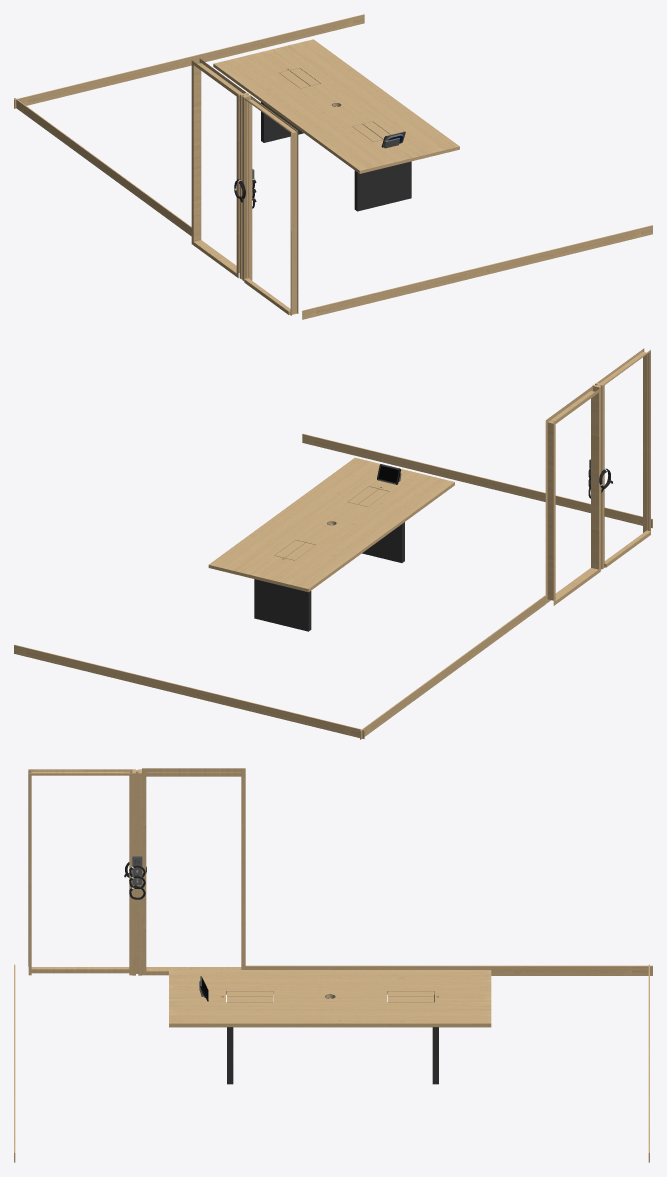
Rendered from Room_WoodElements.FBX.
3 views of the same model, one above another, from view 1: azimuth 30°, elevation 25°; view 2: azimuth 150°, elevation 25°; view 3: azimuth 270°, elevation 25° (orthographic). The views are drawn at different scales.
Parts seen in each view (by area): view 1: Table, WoodElements, Door001; view 2: Table, WoodElements, Door001; view 3: Table, Door001, WoodElements.
Part boxes in pixels (x1,y1,x2,y2): Table: [213, 39, 459, 211]; WoodElements: [14, 14, 652, 319]; Door001: [191, 58, 298, 315]; Table: [208, 457, 454, 631]; WoodElements: [14, 434, 652, 739]; Door001: [545, 348, 650, 605]; Table: [169, 970, 491, 1084]; Door001: [28, 768, 245, 975]; WoodElements: [14, 964, 652, 1162].
Bounding box in the file's own units: 432 × 211 × 603.
Materials: 1 (1 with a texture image).
